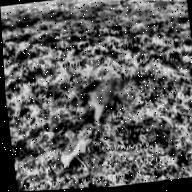boar: (72, 69, 132, 125)
